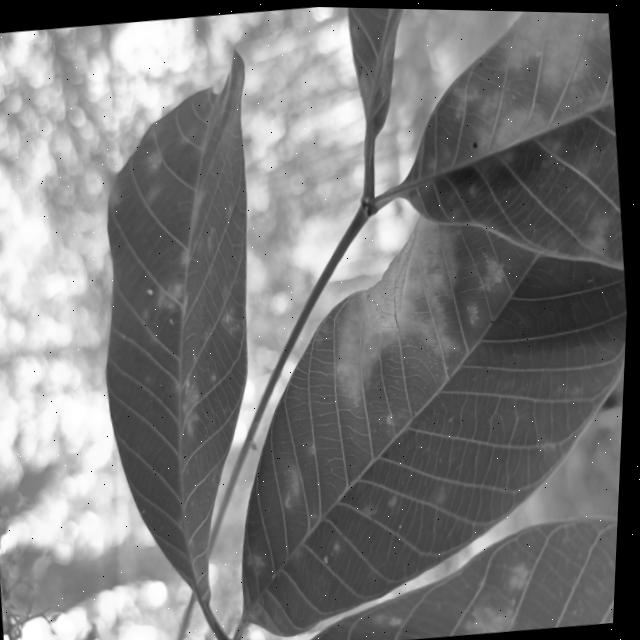Colletotrichum: (473, 138, 480, 145)
Leaf-Blight: (357, 211, 435, 333)
